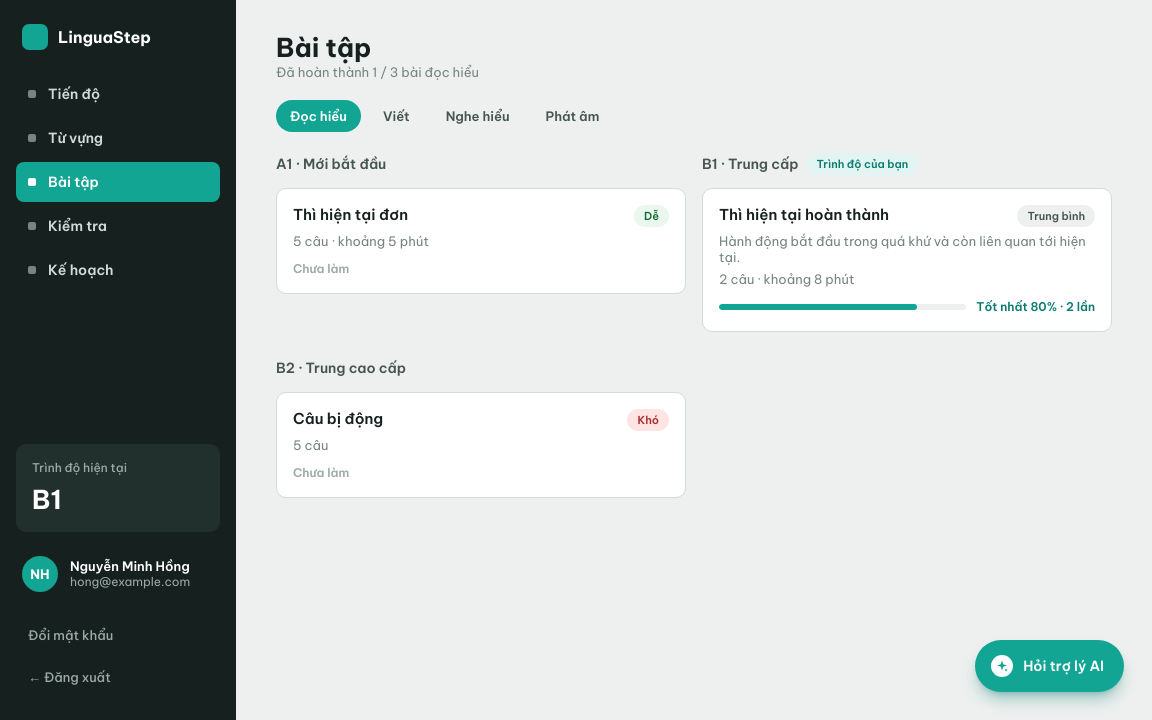
Test case: AI assistant › opens saved history and continues a session without creating another one
Click the button "Hỏi trợ lý AI": [1050, 666] box [975,640,1124,692]
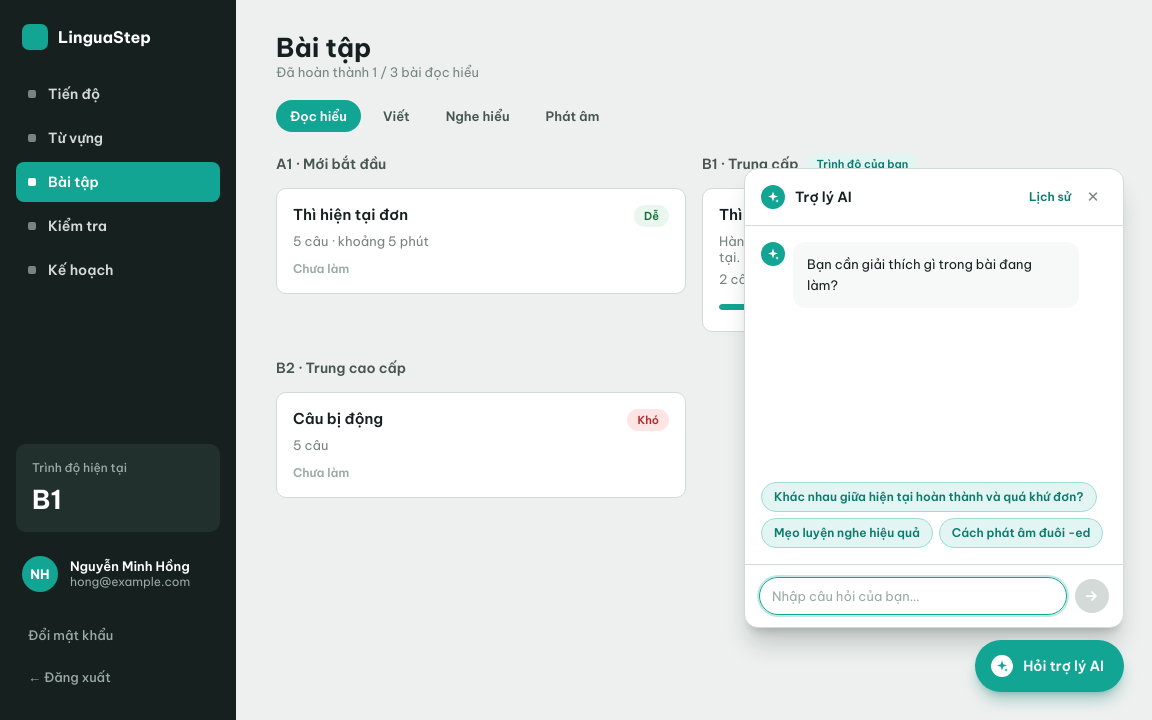
Click the button "Lịch sử": [1050, 197] box [1029,189,1071,205]
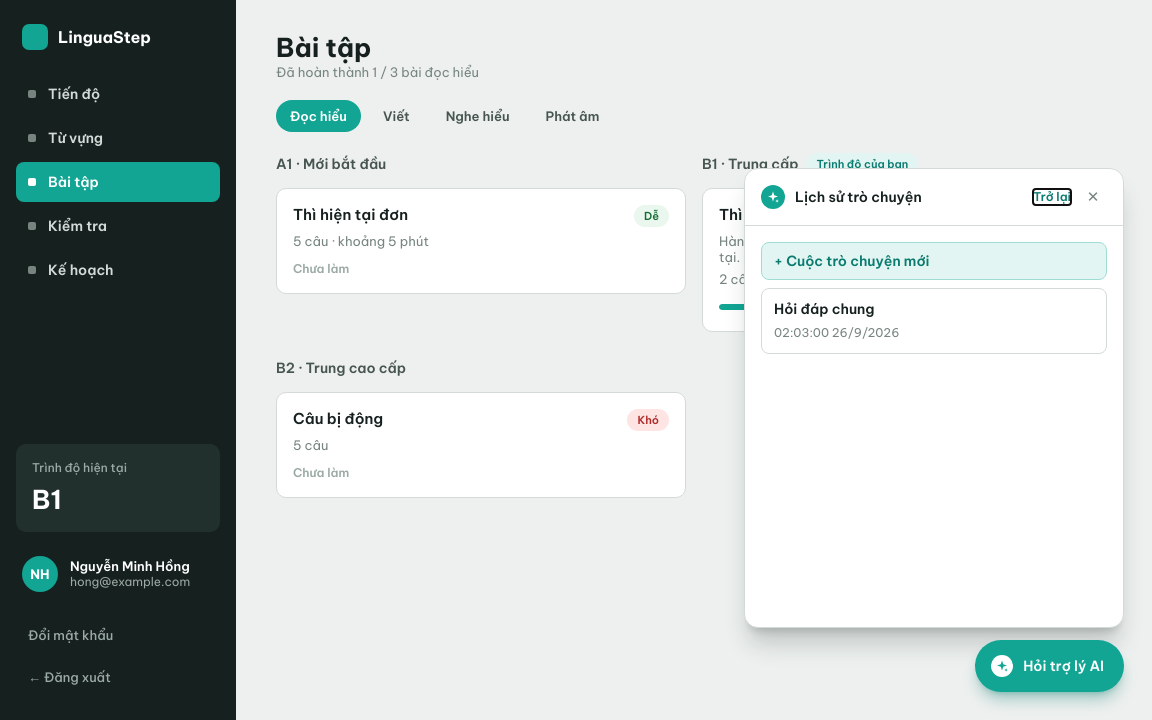
Expected: the button "Hỏi đáp chung 02:03:00 26/9/2026" is enabled
Click the button "Hỏi đáp chung 02:03:00 26/9/2026": [824, 309] box [761,288,1107,354]
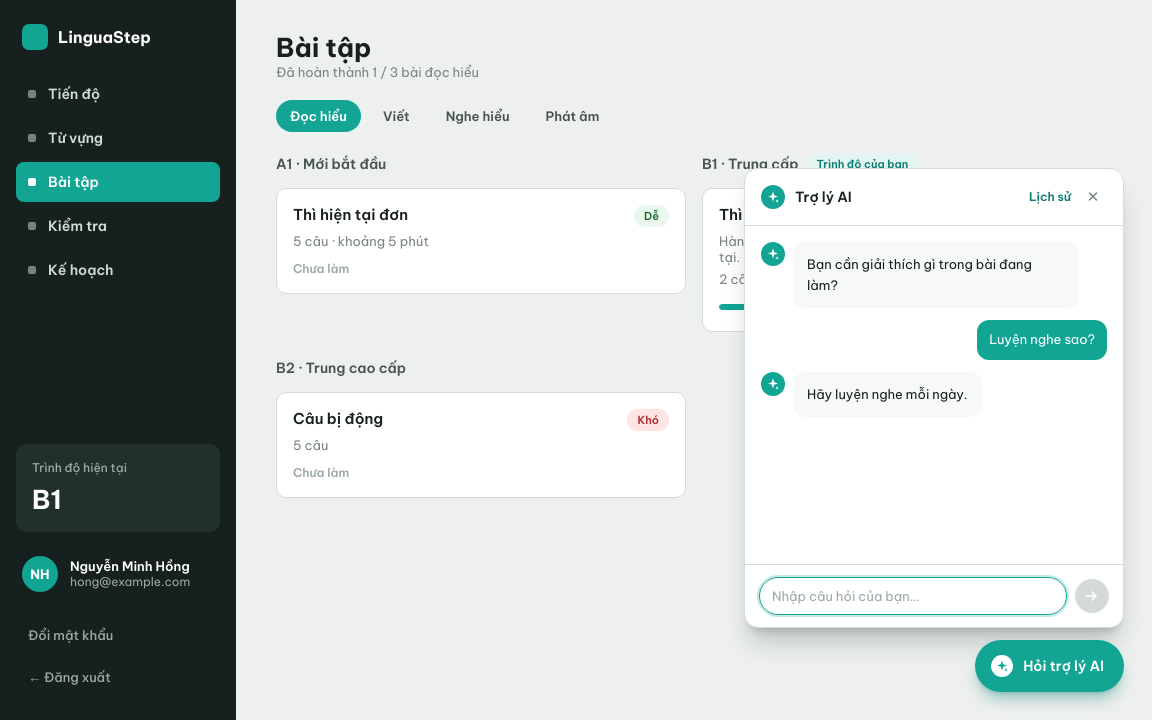
Expected: the text "Luyện nghe sao?" is shown, [977,320,1107,360]
Expected: the text "Hãy luyện nghe mỗi ngày." is shown, [807,384,968,405]
In the field named "Câu hỏi cho trợ lý AI": [913, 596] box [759,577,1067,615], type "Còn cách nào?"
Then press Enter
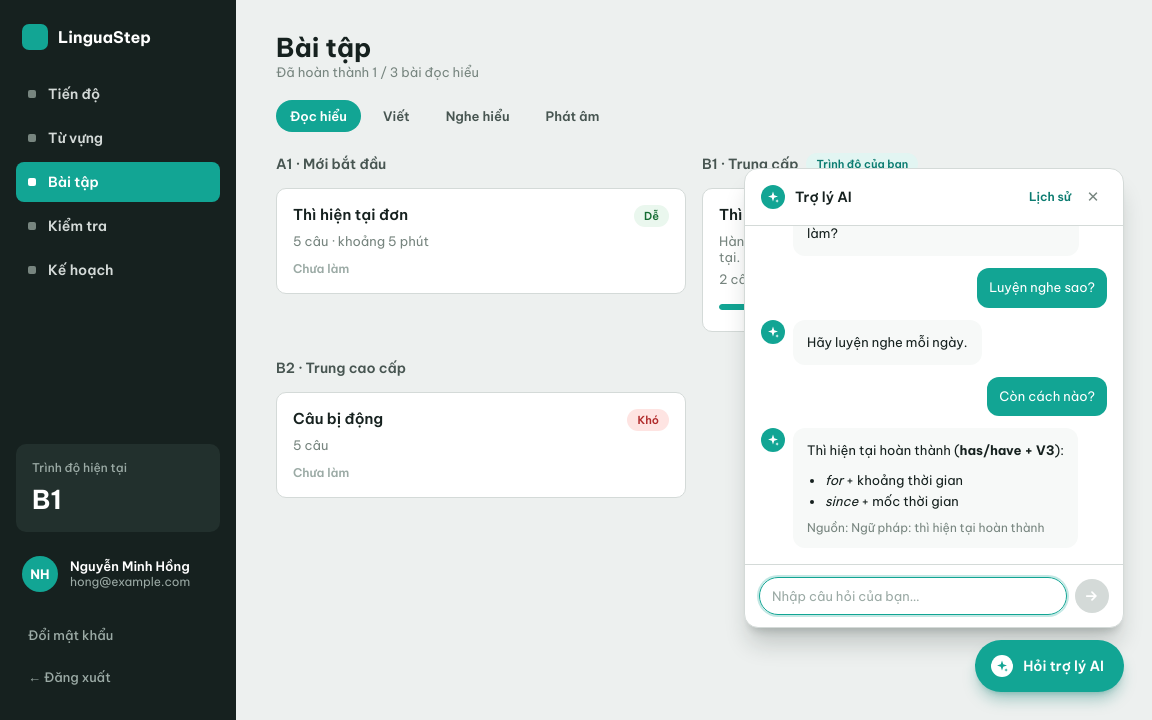
Expected: the text "has/have + V3" is shown, [960,442,1054,458]
